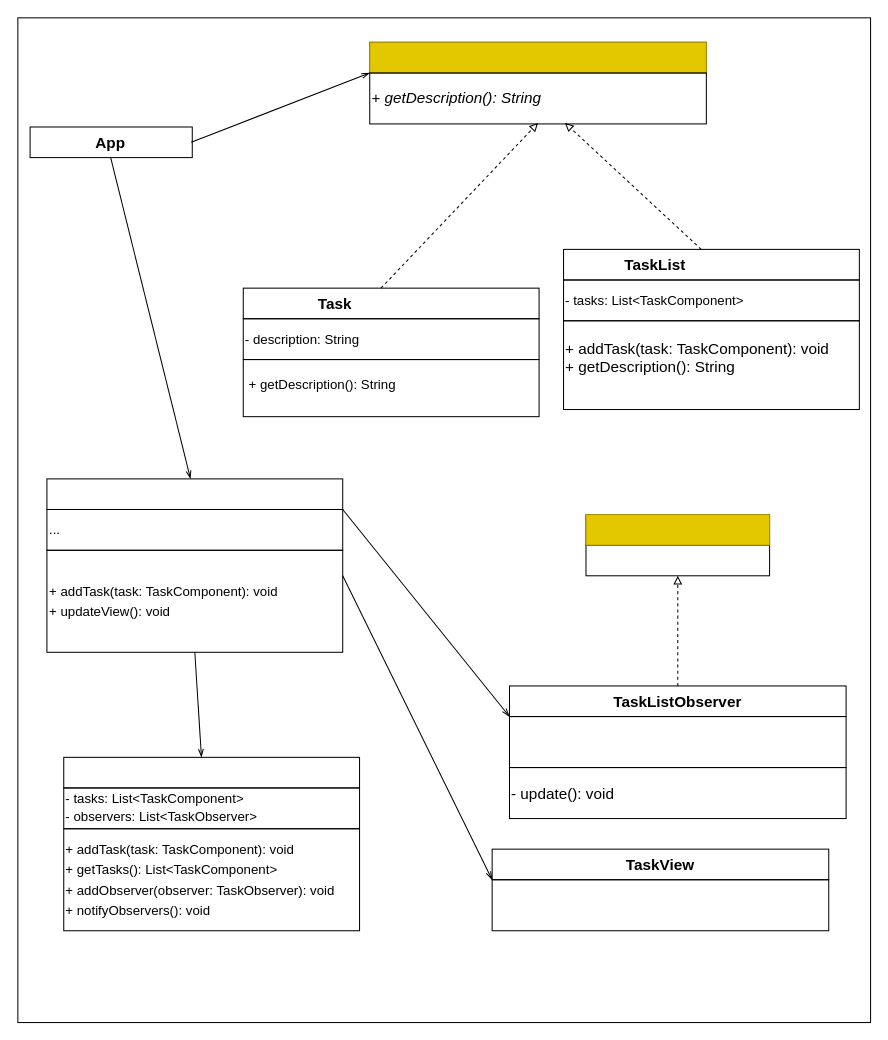
Some shapes in this 888 by 1040 pixel diagram are drawn without their labels. The shapes that lost their labels are listed below. From the top down, each one's centre as x and y in pixels, then its label:
At (537,57): "TaskComponent".
At (194,493): "TaskController".
At (677,529): "TaskObserver".
At (677,560): "+ update(): void".
At (677,742): "- controller: TaskController".
At (211,772): "TaskModel".
At (660,905): "+ displayTasks(tasks: List<TaskComponent>)".
